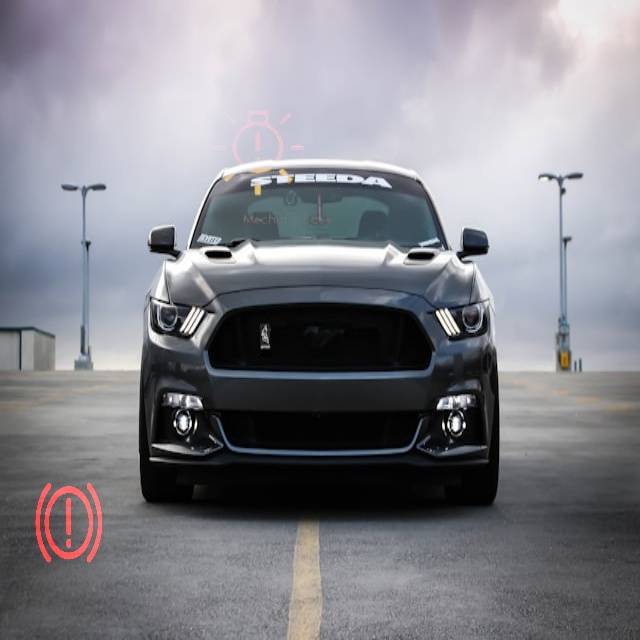symbol: (181, 75, 338, 232), (2, 453, 135, 586)
